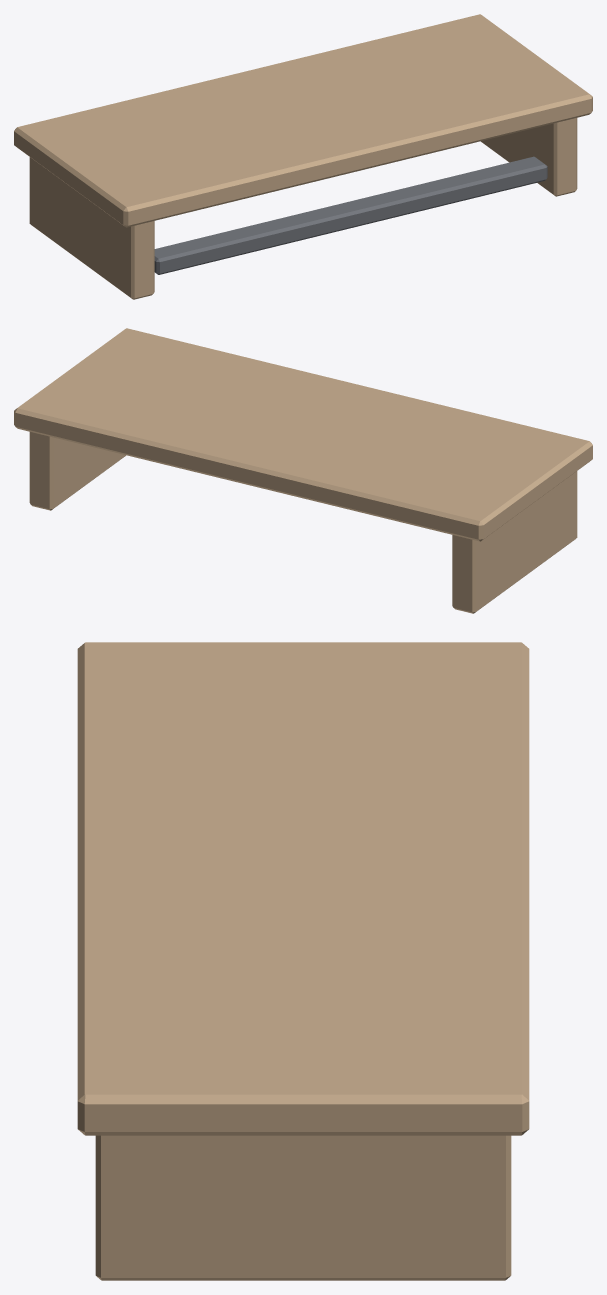
File: computers-and-desk-gadgets-monitor-riser-shelf-58f67a3a__38865.glb
The picture shows the model from 3 angles, top to bottom: view 1: azimuth 30°, elevation 25°; view 2: azimuth 150°, elevation 25°; view 3: azimuth 270°, elevation 25°; orthographic projection. The views are drawn at different scales.
Visible parts, largest first — view 1: monitor-riser-shelf; view 2: monitor-riser-shelf; view 3: monitor-riser-shelf.
Boxes of the visible parts, bbox=[...] form: monitor-riser-shelf: bbox=[14, 14, 592, 299]; monitor-riser-shelf: bbox=[14, 328, 592, 613]; monitor-riser-shelf: bbox=[77, 642, 529, 1280].
Bounding box in the file's own units: 0.6 × 0.12 × 0.25.
